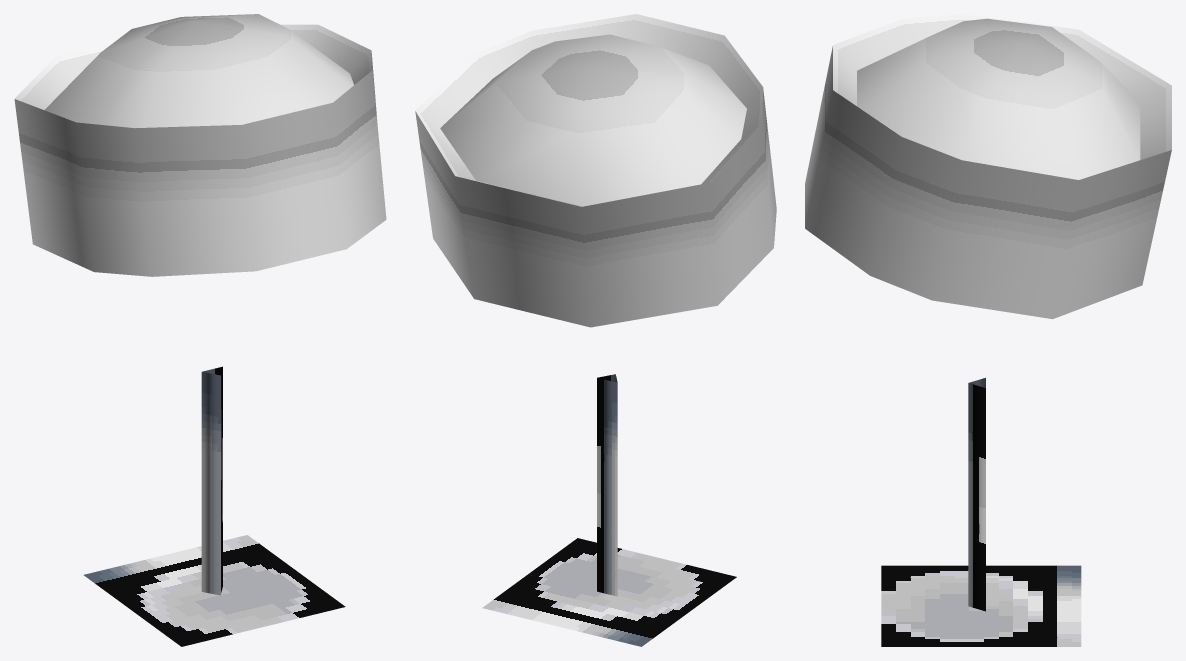
3 views of the same model, side by side, from view 1: azimuth 30°, elevation 25°; view 2: azimuth 150°, elevation 25°; view 3: azimuth 270°, elevation 25° (orthographic). The views are drawn at different scales.
Visible parts, largest first — view 1: 2900head063_c; view 2: 2900head063_c; view 3: 2900head063_c.
Boxes of the visible parts, x1,y1,x2,y2 form: 2900head063_c: (14, 14, 386, 646); 2900head063_c: (415, 14, 776, 646); 2900head063_c: (805, 14, 1171, 646).
Size of the model in its own units: 0.856 by 1.5 by 0.8813.
2 materials, 2 textured.
